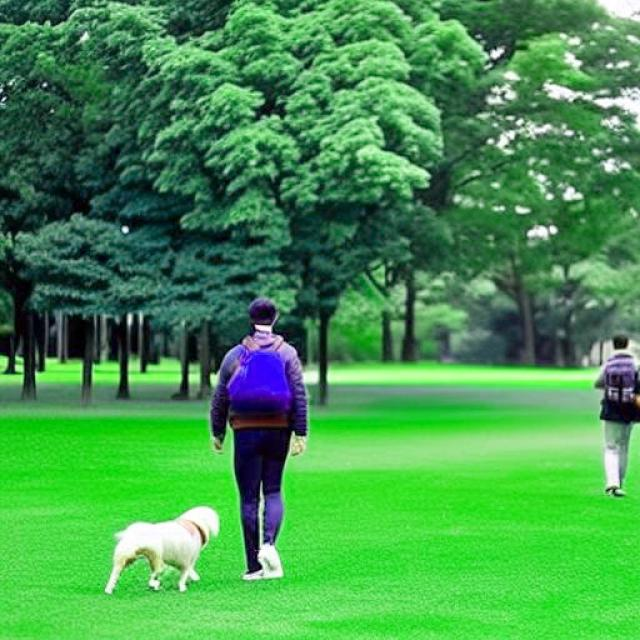Unleashed_Dog: (103, 426, 289, 596)
